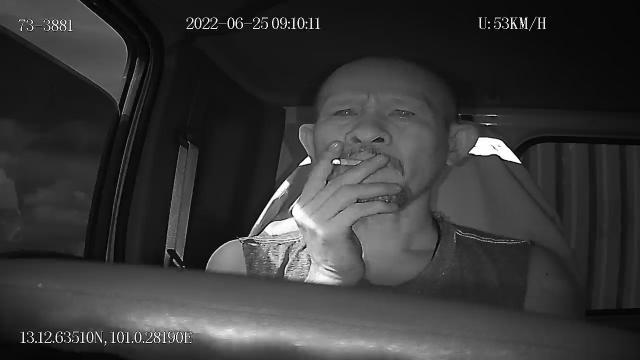SafeDriving: (381, 99, 423, 126), (324, 99, 362, 125)
Smoking: (332, 158, 362, 166)
